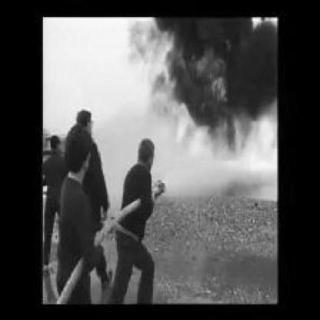Smoke: (135, 18, 277, 81)
